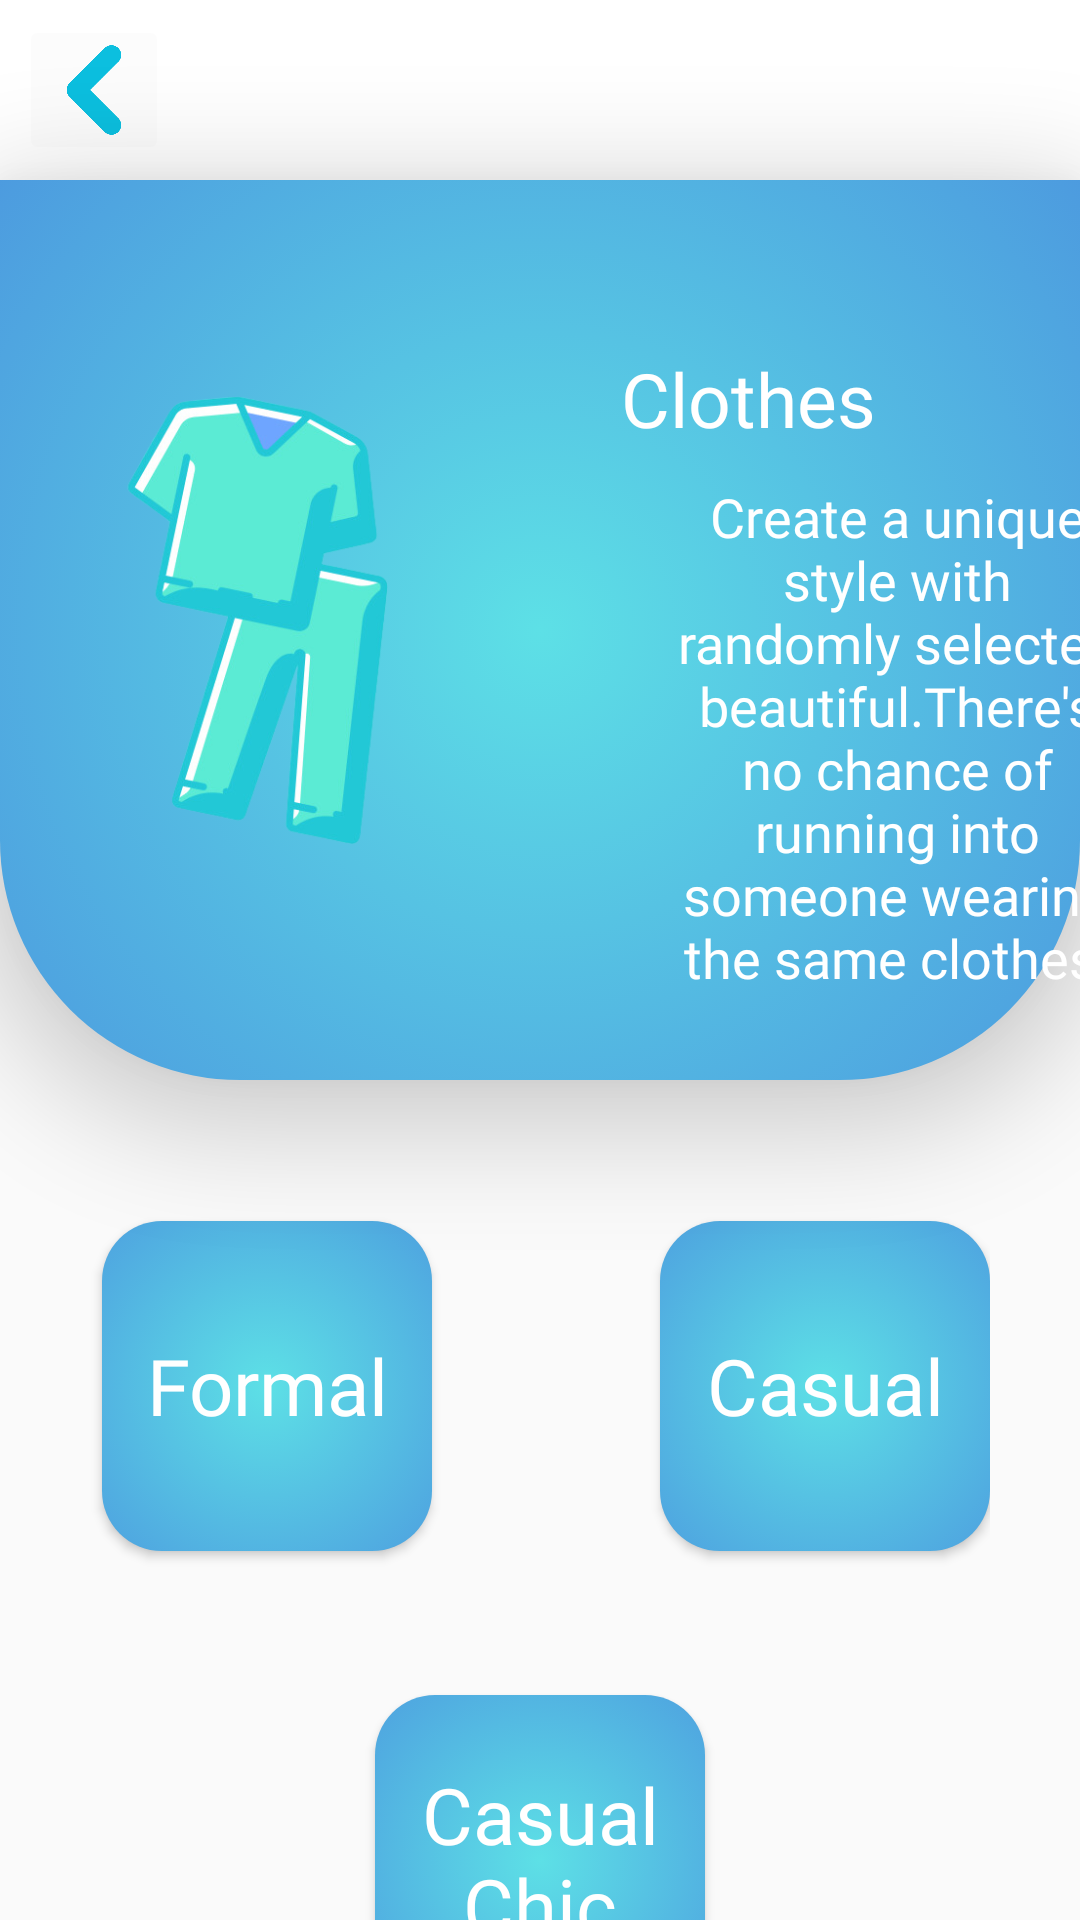

Icon bounding boxes for this 1080px x 1920px phone screenshot, format (x1, y1, x2, y2):
back: (67, 45, 121, 135)
